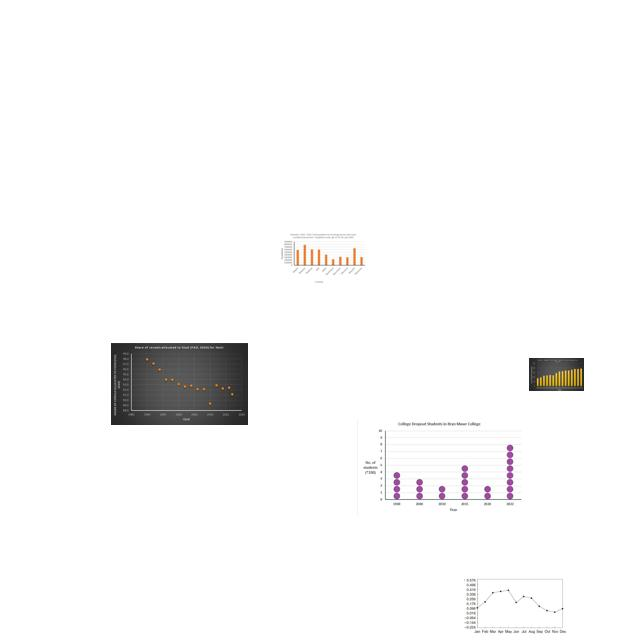Graph: (357, 419, 522, 516), (111, 343, 248, 425), (464, 573, 573, 636), (279, 232, 367, 284), (529, 358, 584, 391)
